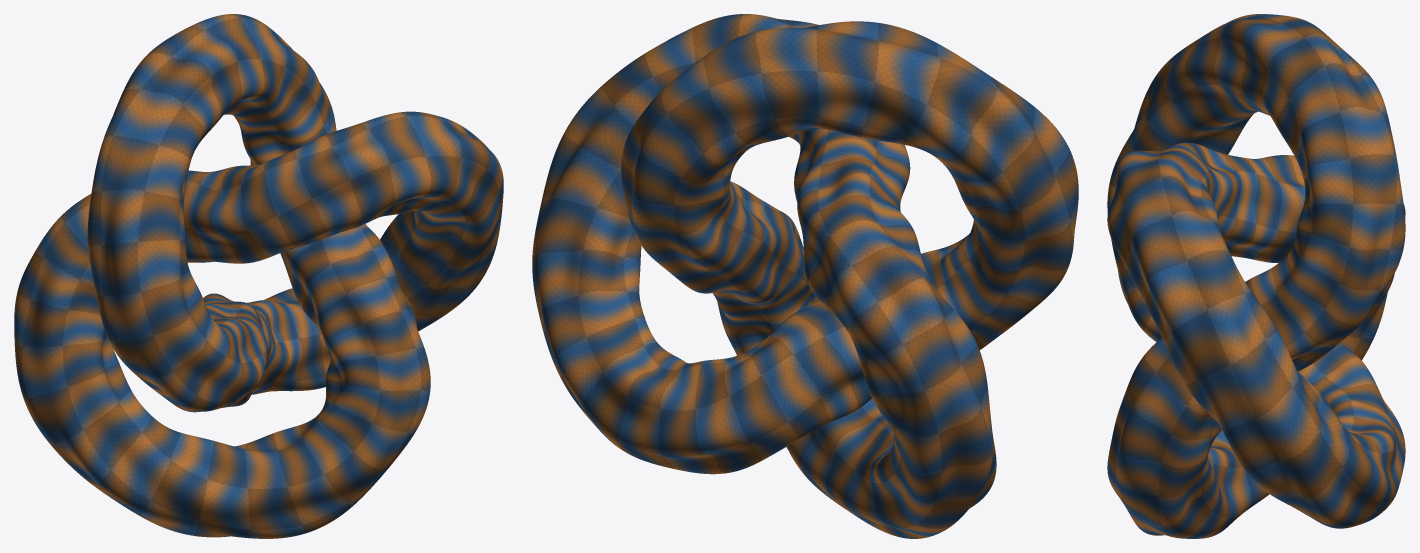
Rendered from knot.glb.
The picture shows the model from 3 angles, left to right: view 1: azimuth 30°, elevation 25°; view 2: azimuth 150°, elevation 25°; view 3: azimuth 270°, elevation 25°; orthographic projection. The views are drawn at different scales.
Parts seen in each view (by area): view 1: knot; view 2: knot; view 3: knot.
Boxes of the visible parts, x1,y1,x2,y2 form: knot: [14, 14, 503, 538]; knot: [532, 14, 1078, 538]; knot: [1107, 14, 1405, 538].
Size of the model in its own units: 3.24 by 3.37 by 1.84.
1 material, 1 textured.
